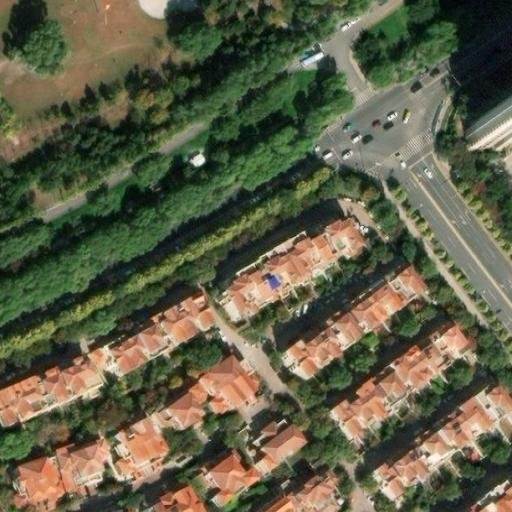building: (371, 378, 512, 498), (286, 260, 427, 378), (331, 321, 468, 437), (225, 218, 368, 317), (104, 291, 215, 374), (0, 350, 104, 427), (196, 354, 261, 411), (203, 449, 263, 508), (52, 435, 109, 494), (116, 416, 171, 476), (254, 419, 312, 474), (154, 382, 209, 429), (287, 469, 347, 512), (16, 455, 64, 504), (464, 109, 512, 152), (462, 474, 512, 512), (148, 484, 205, 512)
